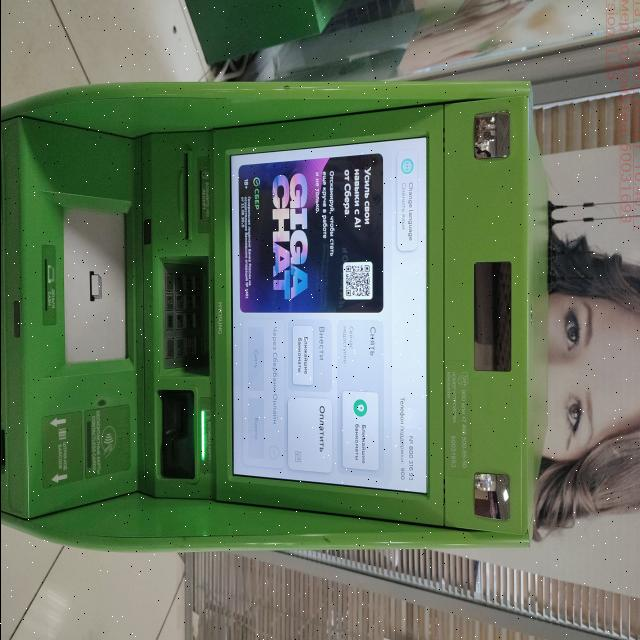bank: (0, 76, 550, 546)
